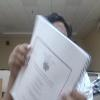notebook: (9, 13, 91, 99)
